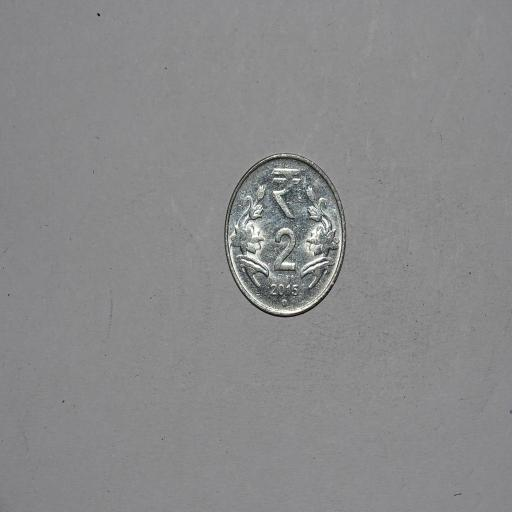rupee2: (221, 151, 343, 322)
